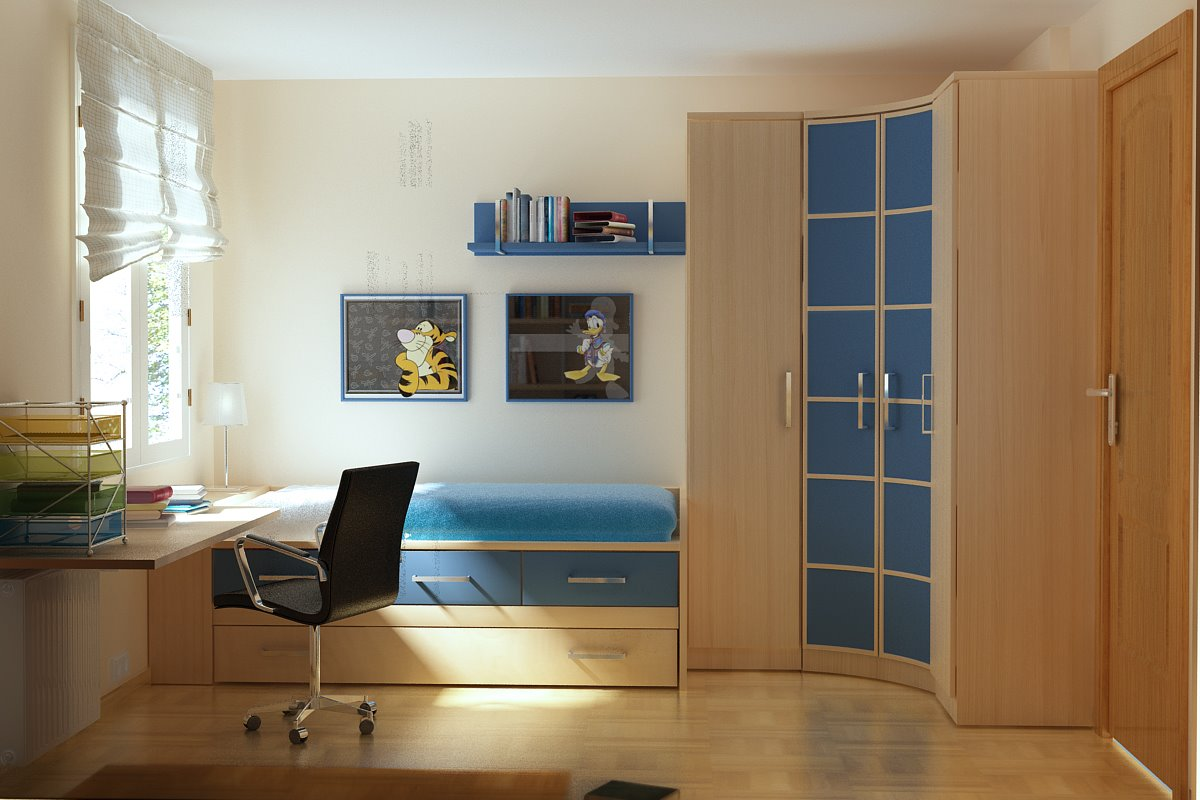chair: (238, 461, 422, 742)
